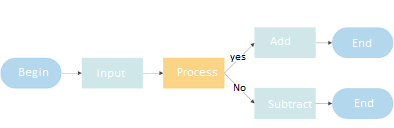arrow: (223, 41, 256, 74), (224, 73, 255, 105), (61, 70, 83, 76), (314, 39, 332, 45), (143, 70, 164, 75), (315, 101, 333, 105)
process: (253, 26, 318, 60), (81, 56, 145, 90), (161, 56, 226, 89), (254, 87, 318, 120)
terminator: (1, 56, 64, 90), (330, 26, 394, 59), (331, 87, 394, 120)
text: (267, 99, 315, 110), (175, 66, 219, 77), (17, 66, 51, 80), (95, 68, 126, 79), (268, 36, 293, 46), (353, 98, 374, 109), (350, 38, 373, 48), (231, 83, 248, 92), (229, 54, 248, 62)
